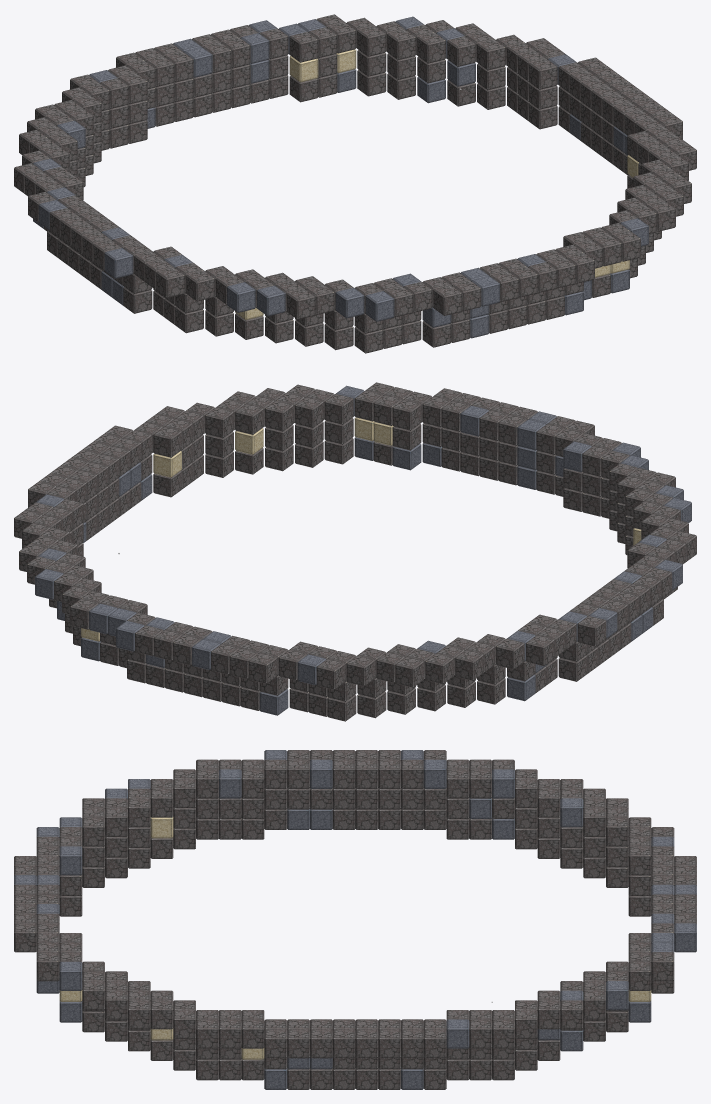
Rendered from env_hole_stone.fbx.
3 views of the same model, one above another, from view 1: azimuth 30°, elevation 25°; view 2: azimuth 150°, elevation 25°; view 3: azimuth 270°, elevation 25° (orthographic). The views are drawn at different scales.
Visible parts, largest first — view 1: env_hole_stone, env_hole_stone_1; view 2: env_hole_stone, env_hole_stone_1; view 3: env_hole_stone, env_hole_stone_1.
Part boxes in pixels (x1,y1,x2,y2): env_hole_stone: (14, 14, 696, 353); env_hole_stone_1: (147, 69, 661, 347); env_hole_stone: (14, 382, 696, 721); env_hole_stone_1: (49, 437, 582, 715); env_hole_stone: (14, 750, 696, 1069); env_hole_stone_1: (36, 895, 674, 1089).
Size of the model in its own units: 120 by 12 by 120.
Materials: 2 (1 with a texture image).
